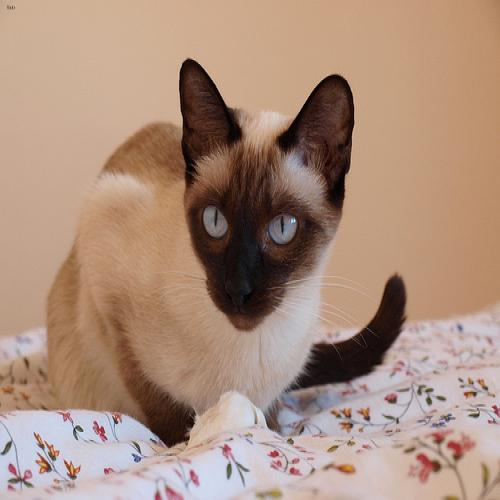siamese: (164, 36, 379, 344)
